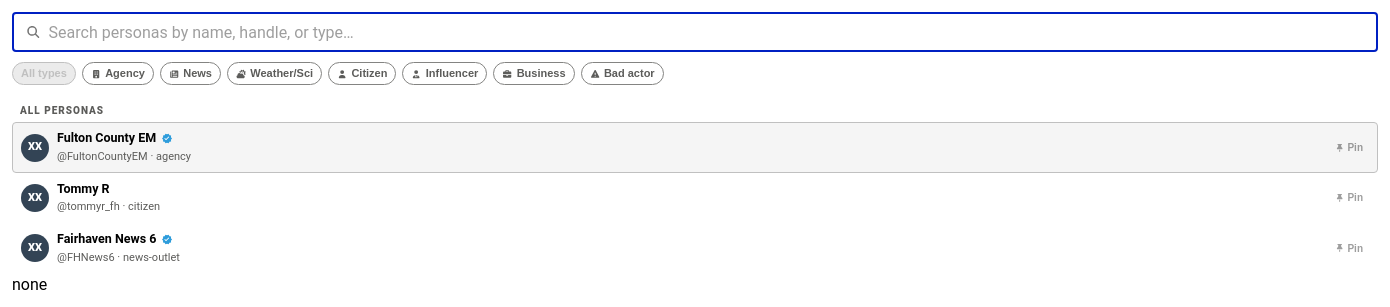
Test: PersonaPicker — search + type filter › filters by displayName or handle
Type "tommy" into the field with test id "persona-picker-search". click: (713, 32)
box: [49,12,1378,52]
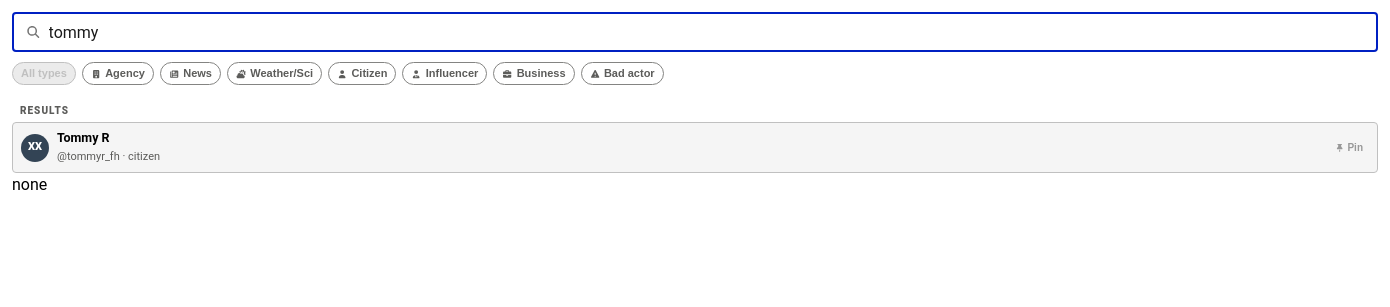
Expected: the option with test id "persona-picker-option-persona-tommyr" is shown, [12,122,1378,173]
Expected: the option with test id "persona-picker-option-persona-fulton-em" is gone
Expected: the option with test id "persona-picker-option-persona-fh-news" is gone
